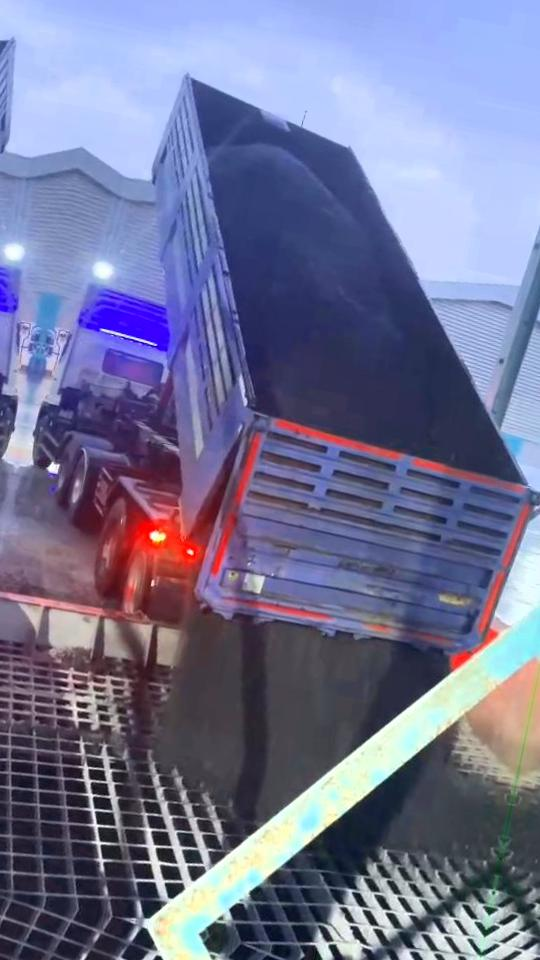gravel: (156, 606, 448, 824), (210, 144, 416, 445), (335, 730, 482, 849)
